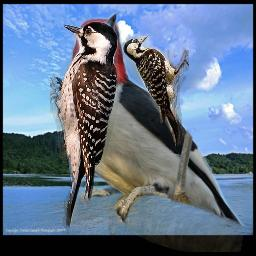Woodpecker: (56, 1, 254, 252), (50, 16, 121, 234), (123, 36, 189, 147)
